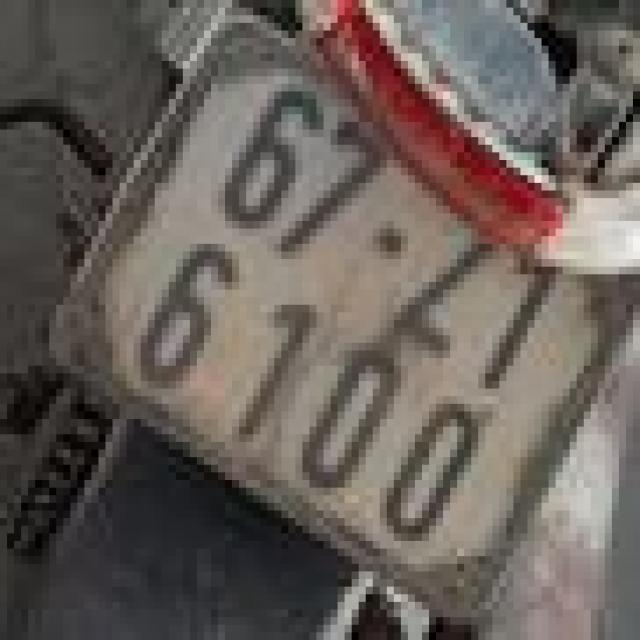0: (276, 319, 431, 518), (358, 377, 512, 561)
1: (439, 218, 580, 411), (213, 282, 337, 460)
6: (113, 211, 258, 409), (200, 59, 340, 251)
7: (251, 91, 414, 286)
Z: (383, 186, 525, 380)
